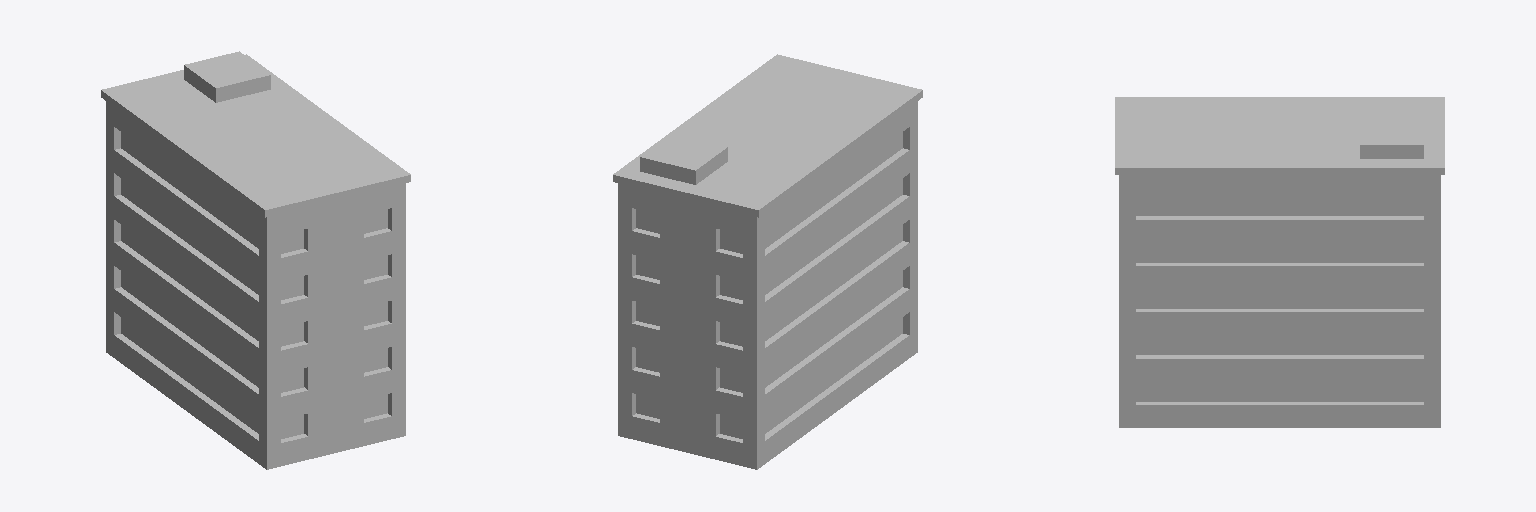
The model's file is building1.obj.
3 views of the same model, side by side, from view 1: azimuth 30°, elevation 25°; view 2: azimuth 150°, elevation 25°; view 3: azimuth 270°, elevation 25° (orthographic).
Parts seen in each view (by area): view 1: Cube; view 2: Cube; view 3: Cube.
Boxes of the visible parts, box(x1,y1,x2,y2) form: Cube: box(101, 51, 410, 469); Cube: box(613, 54, 922, 469); Cube: box(1115, 97, 1444, 427).
Bounding box in the file's own units: 2.1 × 3.8 × 4.1.